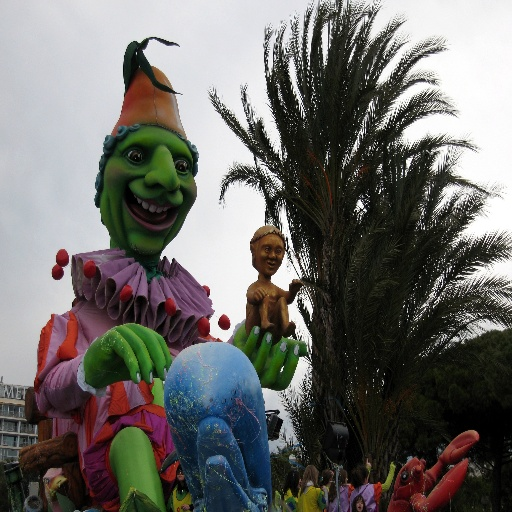hand: (80, 322, 173, 390), (230, 321, 307, 391), (250, 285, 266, 306), (288, 278, 304, 291), (365, 456, 371, 470), (180, 503, 189, 511), (320, 485, 326, 492)
